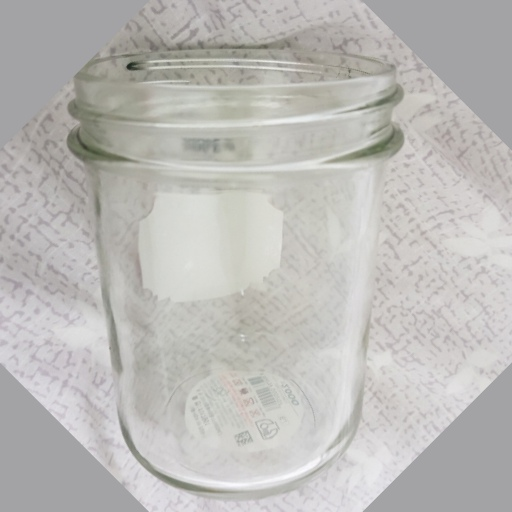Glass_5: (70, 44, 405, 491)
